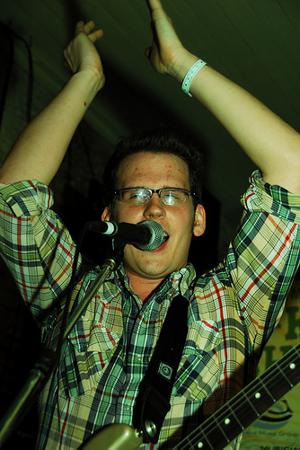person: (2, 4, 299, 445)
